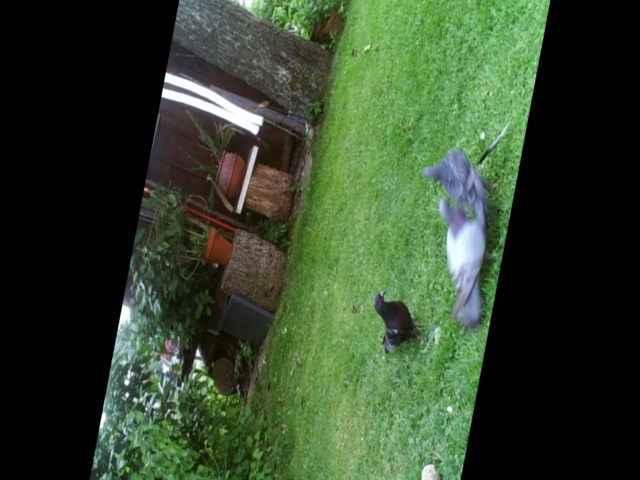Pigeon: (433, 198, 491, 333), (417, 150, 499, 202), (358, 287, 425, 346)
